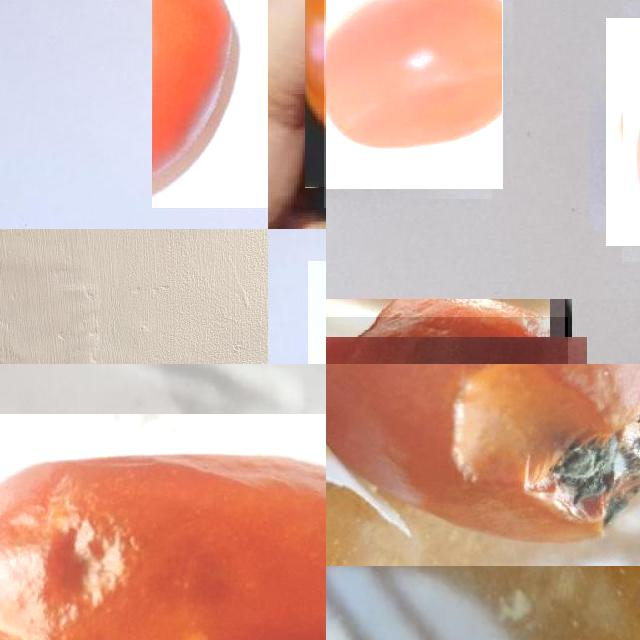Fresh Tomato: (326, 0, 502, 188), (152, 0, 268, 208)
Rotten Tomato: (0, 414, 326, 640), (326, 364, 640, 566)
